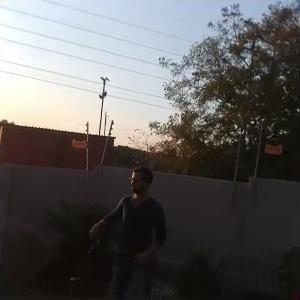follow: (82, 162, 171, 298)
